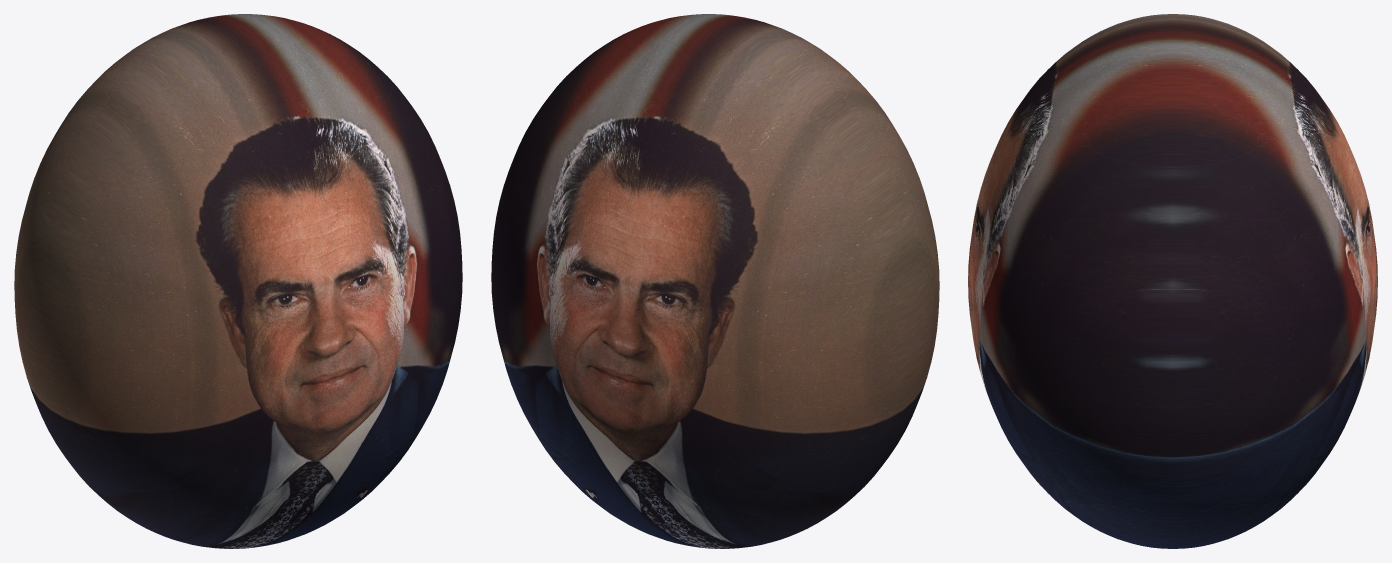
3 views of the same model, side by side, from view 1: azimuth 30°, elevation 25°; view 2: azimuth 150°, elevation 25°; view 3: azimuth 270°, elevation 25° (orthographic).
Visible parts, largest first — view 1: head; view 2: head; view 3: head.
Boxes of the visible parts, bbox=[...] form: head: bbox=[14, 14, 462, 548]; head: bbox=[491, 14, 939, 548]; head: bbox=[968, 14, 1377, 548].
Size of the model in its own units: 1.65 by 2 by 1.49.
Materials: 1 (1 with a texture image).
